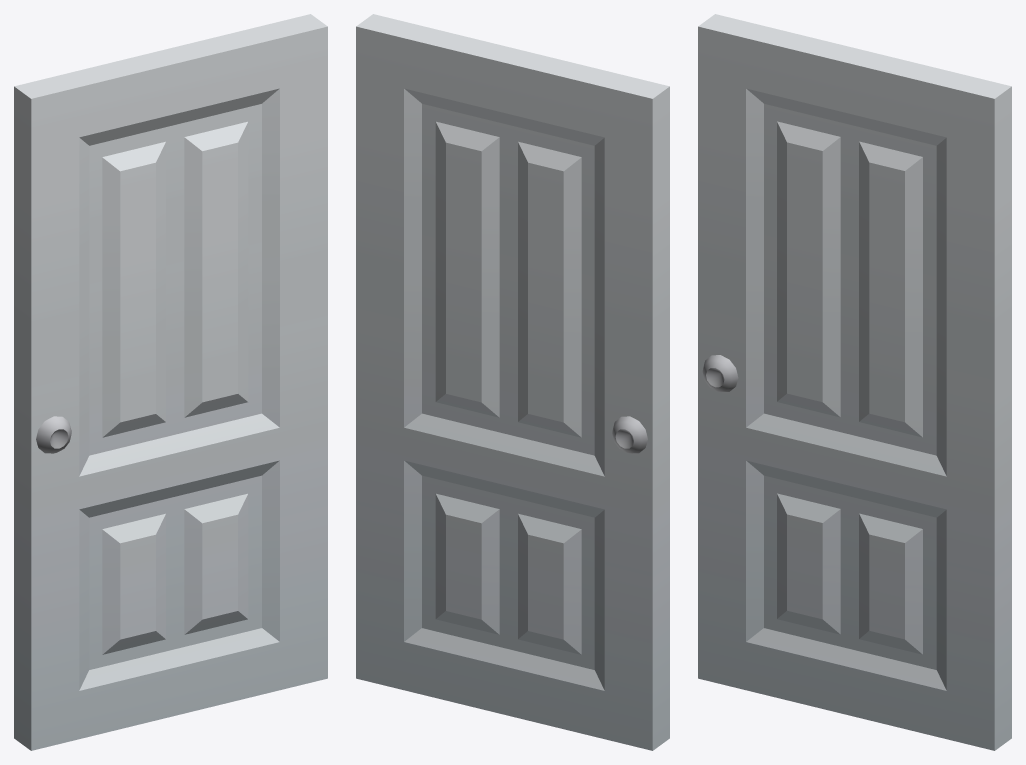
Rendered from Door_White_03.glb.
3 renders of one model, left to right at view 1: azimuth 30°, elevation 25°; view 2: azimuth 150°, elevation 25°; view 3: azimuth 330°, elevation 25°, orthographic.
Visible parts, largest first — view 1: Door_White_03; view 2: Door_White_03; view 3: Door_White_03.
Boxes of the visible parts, box(x1,y1,x2,y2) form: Door_White_03: box(14, 14, 327, 750); Door_White_03: box(356, 14, 669, 750); Door_White_03: box(698, 14, 1011, 750).
Size of the model in its own units: 1 by 2.1 by 0.1634.
Materials: 1 (1 with a texture image).
